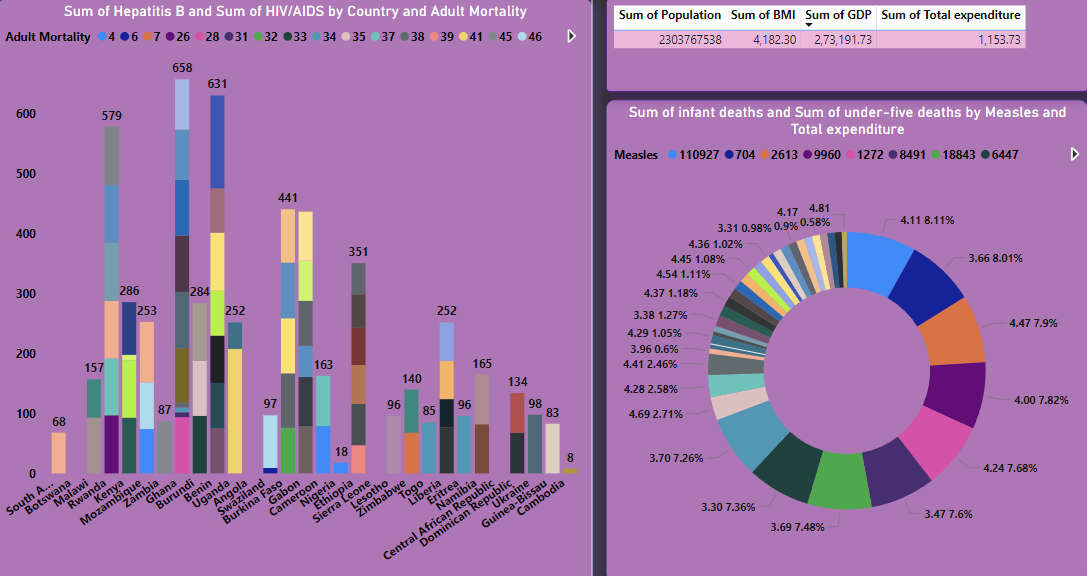

Layout of this report page (visuals, bound fields, positions):
{"tool":"powerbi","page":{"name":"Page 2","canvas":[1280,720],"ordinal":1},"visuals":[{"type":"columnChart","fields":{"Category":["Life Expectancy Data_report.Country"],"Series":["Life Expectancy Data_report.Adult Mortality"],"Y":["Sum(Life Expectancy Data_report.Hepatitis B)"]},"box":[19.6,19.6,679.9,667.7],"z":0},{"type":"donutChart","fields":{"Y":["Sum(Life Expectancy Data_report.infant deaths)"],"Category":["Life Expectancy Data_report.Measles "],"Series":["Life Expectancy Data_report.Total expenditure"]},"box":[715.4,135.7,550.3,551.5],"z":1000},{"type":"tableEx","fields":{"Values":["Sum(Life Expectancy Data_report.Population)","Sum(Life Expectancy Data_report. BMI )","Sum(Life Expectancy Data_report.GDP)","Sum(Life Expectancy Data_report.Total expenditure)"]},"box":[715.4,19.6,550.3,106.4],"z":2000}]}

Visuals, with their boxes on the page's 1280x720 design canvas (x1, y1, x2, y2). These are canvas units, not pixel positions in the 1087x576 screenshot, which may show the page scaled, cropped or inside an application window:
columnChart - Life Expectancy Data_report.Country x Life Expectancy Data_report.Adult Mortality: bbox=(20, 20, 700, 687)
donutChart - Sum(Life Expectancy Data_report.infant deaths) x Life Expectancy Data_report.Measles : bbox=(715, 136, 1266, 687)
tableEx - Sum(Life Expectancy Data_report.Population) x Sum(Life Expectancy Data_report. BMI ): bbox=(715, 20, 1266, 126)
